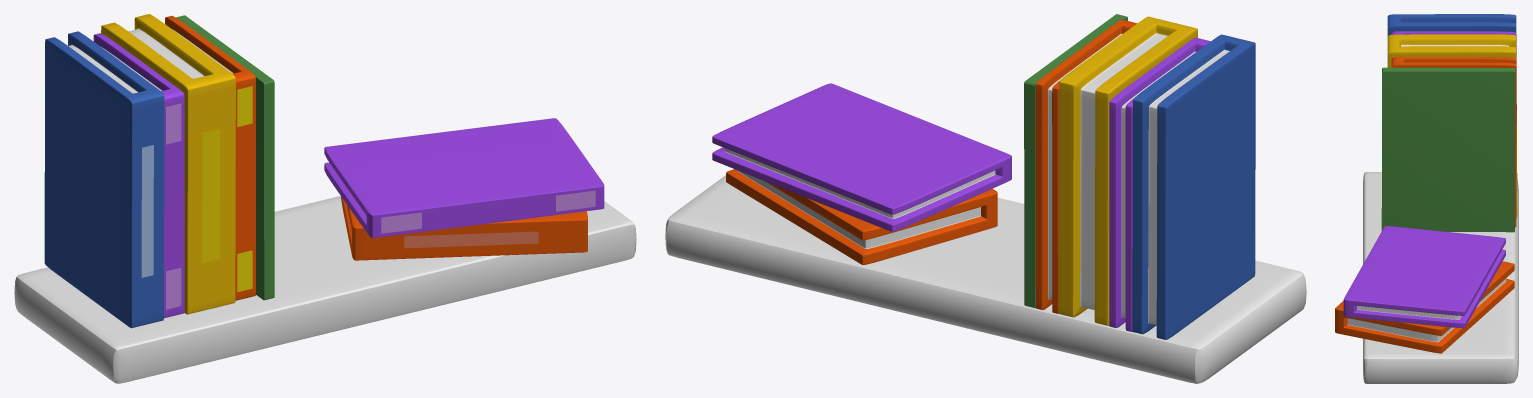
The model's file is Book Shelf.fbx.
3 views of the same model, side by side, from view 1: azimuth 30°, elevation 25°; view 2: azimuth 150°, elevation 25°; view 3: azimuth 270°, elevation 25° (orthographic). The views are drawn at different scales.
Parts seen in each view (by area): view 1: Cube.016; view 2: Cube.016; view 3: Cube.016.
Boxes of the visible parts, left/top/right/bottom form: Cube.016: left=14, top=14, right=636, bottom=383; Cube.016: left=665, top=14, right=1306, bottom=383; Cube.016: left=1335, top=14, right=1518, bottom=383.
Bounding box in the file's own units: 142 × 68.73 × 58.47.
